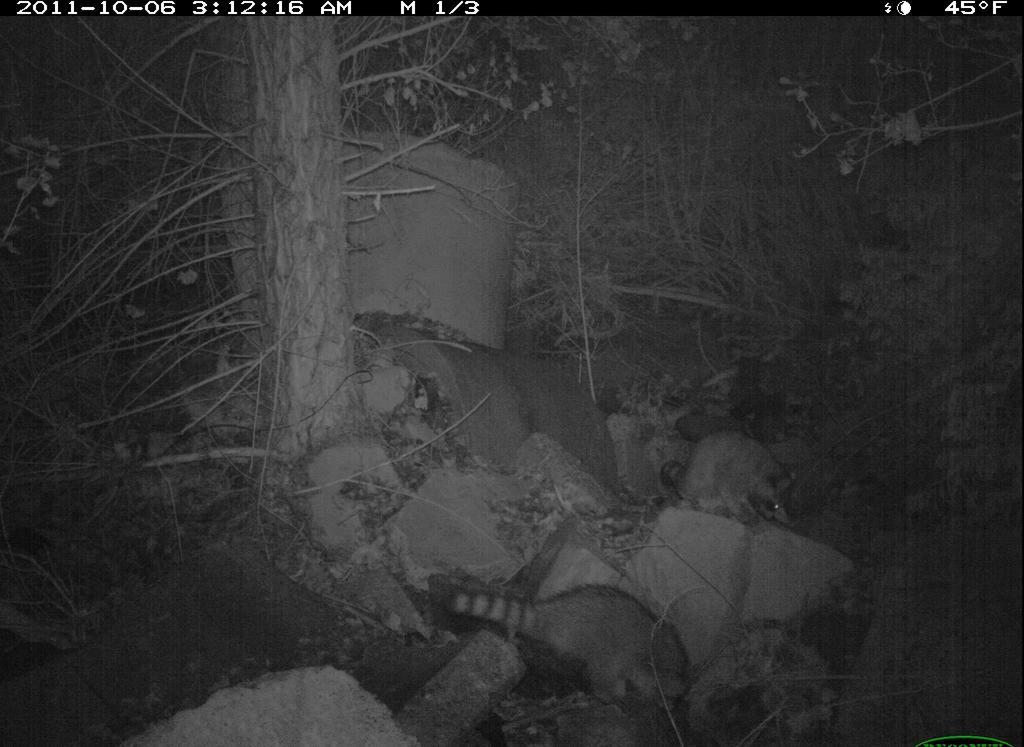raccoon: (419, 578, 724, 716)
